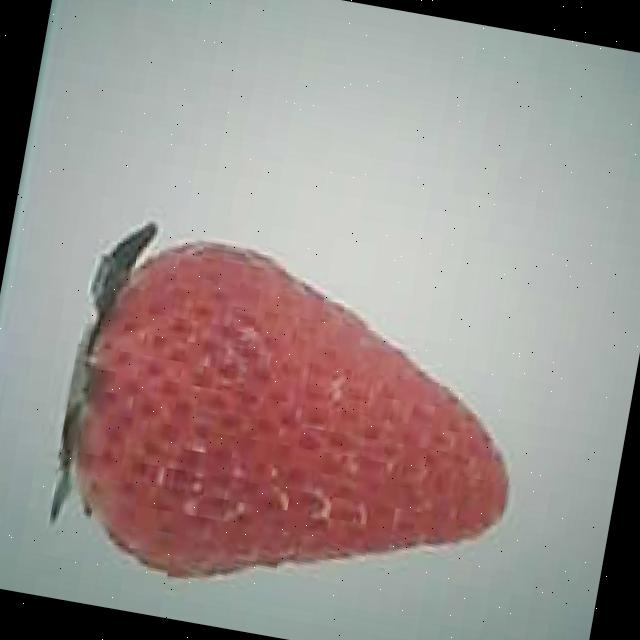strawberry: (47, 221, 548, 633)
